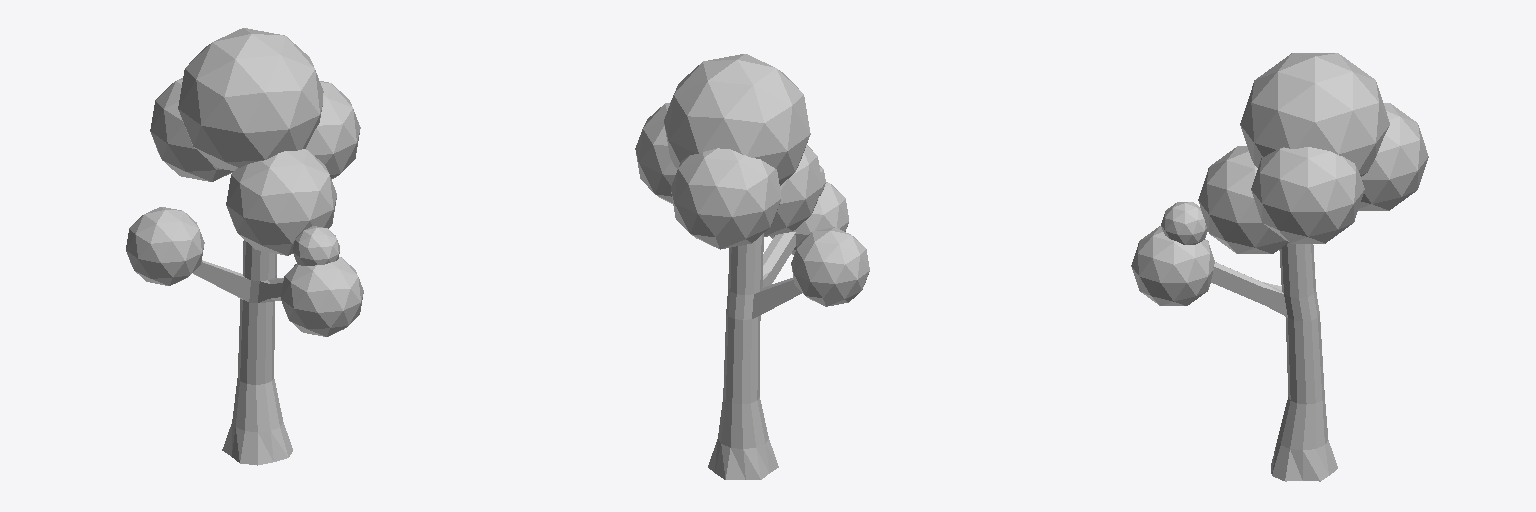
Rendered from Tree_0.obj.
3 views of the same model, side by side, from view 1: azimuth 30°, elevation 25°; view 2: azimuth 150°, elevation 25°; view 3: azimuth 270°, elevation 25° (orthographic).
Parts seen in each view (by area): view 1: Cylinder; view 2: Cylinder; view 3: Cylinder.
Part boxes in pixels (bbox=[...]): Cylinder: bbox=[126, 28, 363, 465]; Cylinder: bbox=[635, 54, 869, 479]; Cylinder: bbox=[1131, 53, 1428, 481].
Bounding box in the file's own units: 3.02 × 5.41 × 3.54.